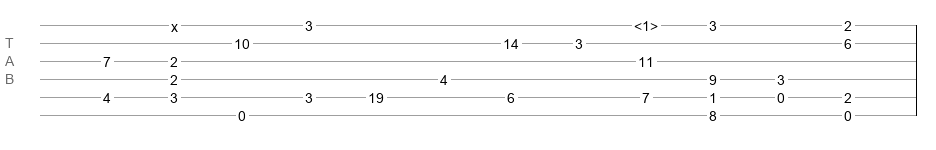0: (238, 108, 246, 118), (777, 90, 785, 100), (844, 108, 852, 118)
1: (709, 90, 717, 100)
10: (234, 36, 250, 46)
11: (638, 54, 654, 64)
14: (503, 36, 519, 46)
19: (368, 90, 384, 100)
2: (170, 54, 178, 64), (170, 72, 178, 82), (844, 18, 852, 28), (844, 90, 852, 100)
3: (170, 90, 178, 100), (305, 90, 313, 100), (305, 18, 313, 28), (575, 36, 583, 46), (709, 18, 717, 28), (777, 72, 785, 82)
4: (103, 90, 111, 100), (440, 72, 448, 82)
6: (507, 90, 515, 100), (844, 36, 852, 46)
7: (103, 54, 111, 64), (642, 90, 650, 100)
8: (709, 108, 717, 118)
9: (709, 72, 717, 82)
harmonic: (634, 18, 658, 28)
x: (171, 19, 178, 27)
